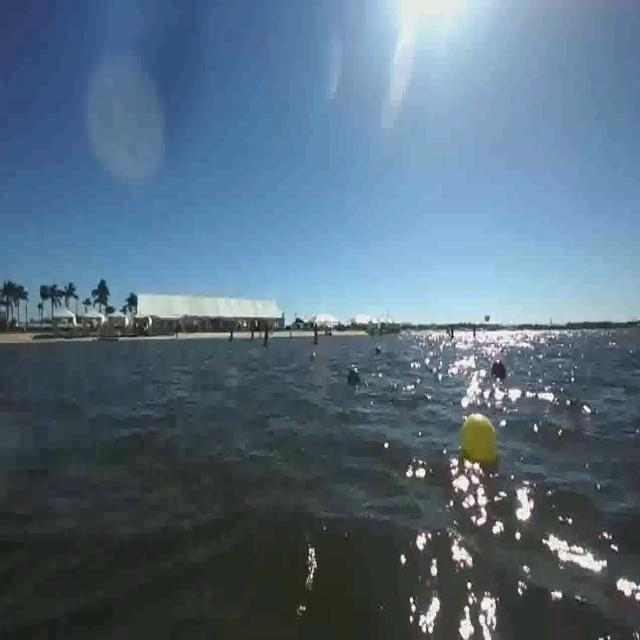yellow-buoy: (458, 411, 499, 466)
